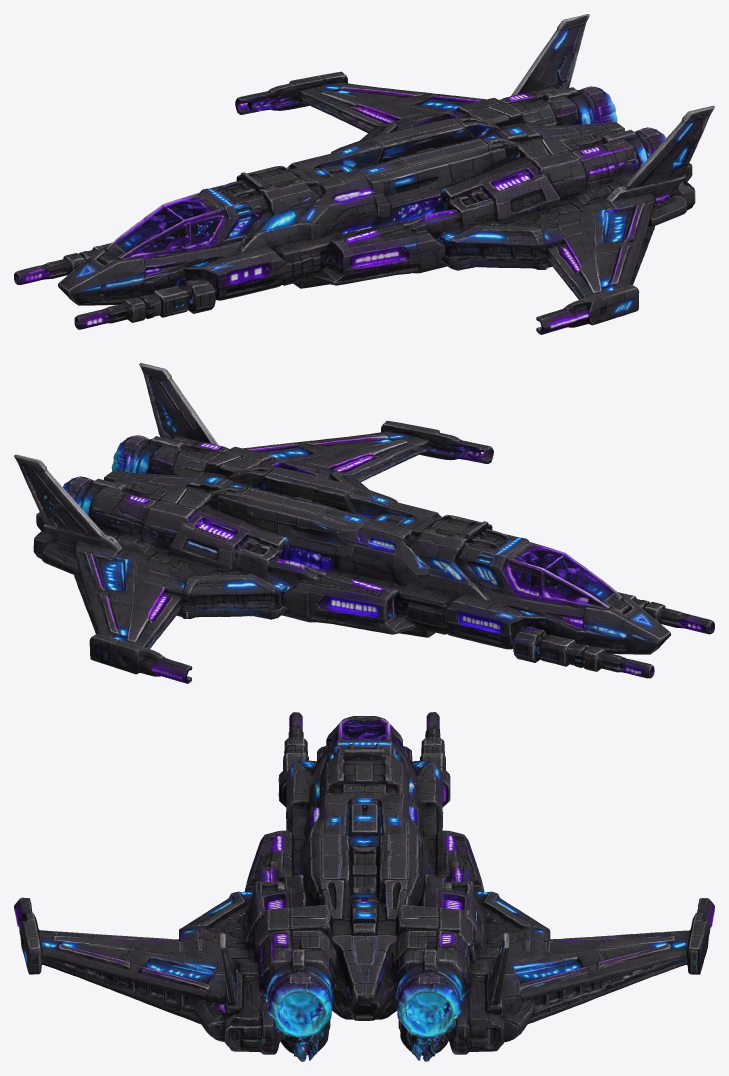
The model's file is Meshy_AI_Sci_Fi_Fighter_Ship_0625034515_image-to-3d-texture.glb.
3 views of the same model, one above another, from view 1: azimuth 30°, elevation 25°; view 2: azimuth 150°, elevation 25°; view 3: azimuth 270°, elevation 25° (orthographic). The views are drawn at different scales.
Bounding box in the file's own units: 1.9 × 0.4146 × 1.68.
Materials: 1 (1 with a texture image).
